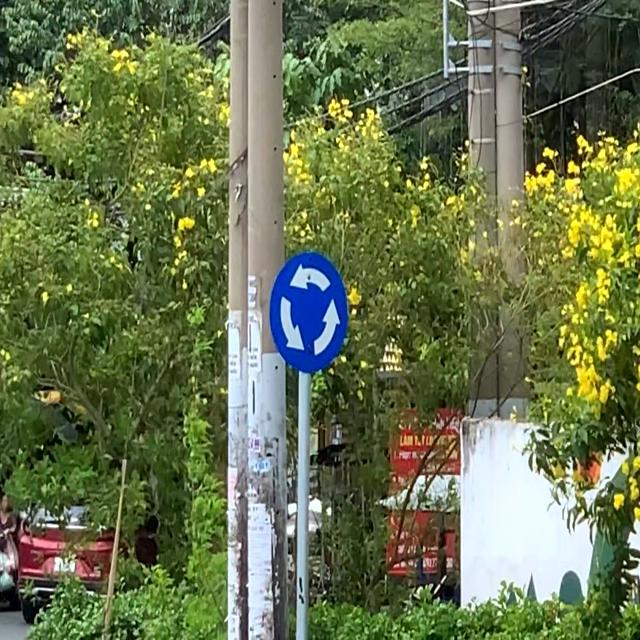R-303: (271, 250, 348, 373)
